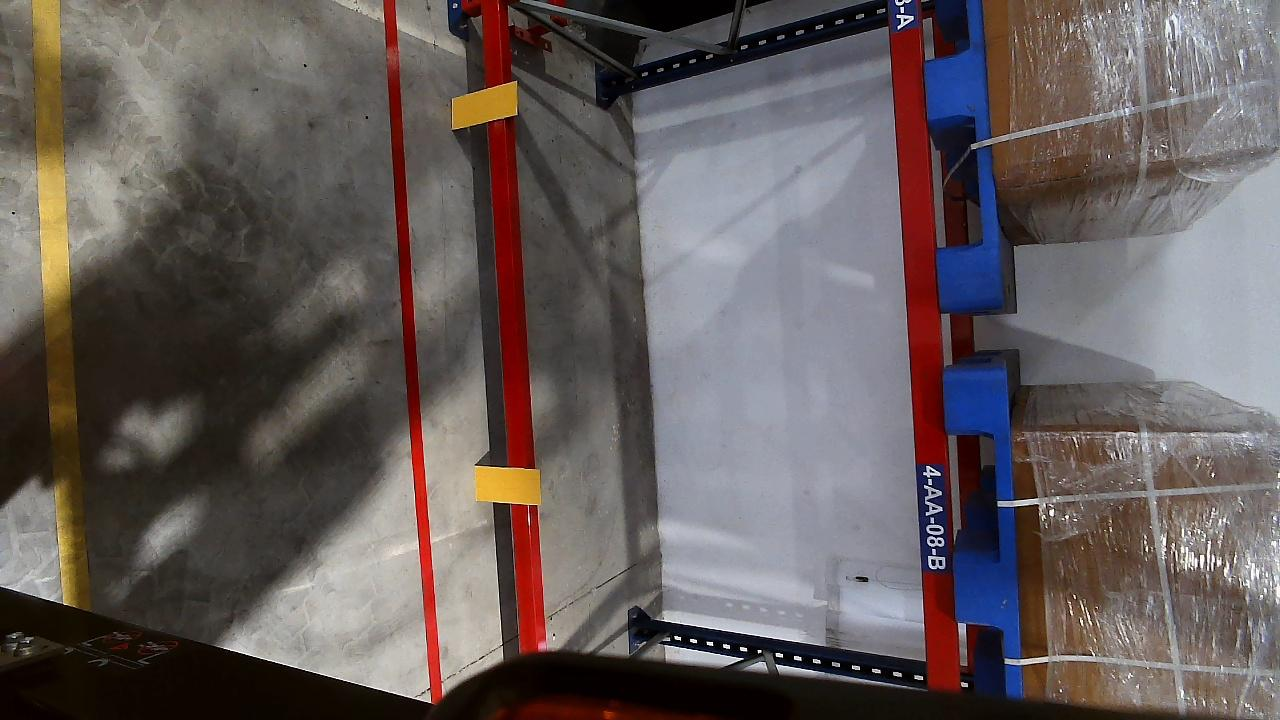h_rack: (471, 8, 556, 650), (883, 0, 954, 686)
orange_strip: (451, 82, 519, 129), (473, 466, 540, 505)
red_line: (375, 0, 444, 695)
small_pallet: (915, 2, 1015, 316), (943, 371, 1029, 690)
yellow_line: (14, 3, 92, 607)
